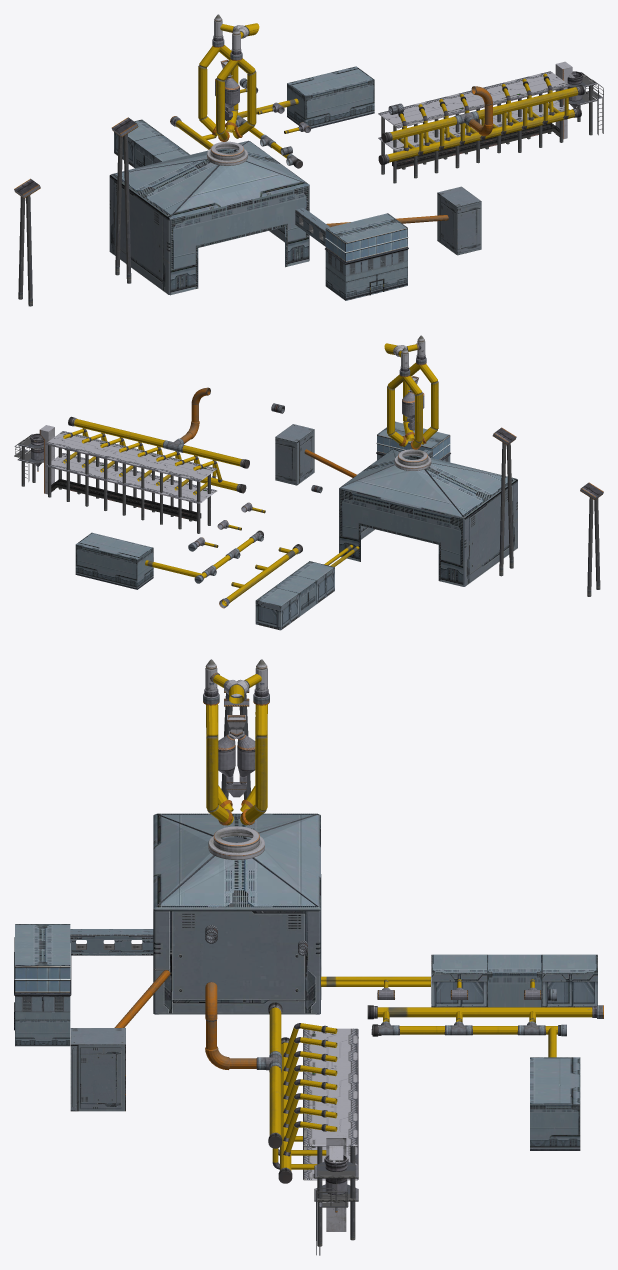
The model's file is 高炉大模型.obj.
The picture shows the model from 3 angles, top to bottom: view 1: azimuth 30°, elevation 25°; view 2: azimuth 150°, elevation 25°; view 3: azimuth 270°, elevation 25°; orthographic projection. The views are drawn at different scales.
Visible parts, largest first — view 1: ChamferBowx006, Cylinder061, Box341, Box006, ChamferBox001, Box340, Cylinder087, Box007, Object040, Cylinder026, ChamferBox032, Cylinder092 (+4 smaller); view 2: ChamferBowx006, Cylinder061, Box006, Box007, ChamferBox001, ChamferBox032, Cylinder087, Box340, Box341, Object040, Cylinder026, Cylinder092 (+2 smaller); view 3: ChamferBowx006, Cylinder061, Box007, Box341, ChamferBox001, Box006, Box340, ChamferBox030, Cylinder026, Cylinder092, Cylinder033, Line049 (+1 smaller).
Part boxes in pixels (x1,y1,x2,y2): ChamferBowx006: (109, 140, 309, 295); Cylinder061: (175, 45, 578, 162); Box341: (325, 213, 408, 300); Box006: (287, 66, 374, 128); ChamferBox001: (378, 71, 570, 128); Box340: (437, 186, 481, 255); Cylinder087: (18, 133, 131, 306); Box007: (114, 119, 189, 168); Object040: (392, 123, 559, 169); Cylinder026: (326, 86, 493, 226); ChamferBox032: (378, 100, 569, 151); Cylinder092: (207, 141, 247, 165); ChamferBowx006: (339, 449, 517, 586); Cylinder061: (63, 362, 438, 605); Box006: (75, 532, 153, 589); Box007: (255, 561, 334, 630); ChamferBox001: (45, 431, 216, 481); ChamferBox032: (45, 453, 216, 503); Cylinder087: (499, 442, 600, 596); Box340: (275, 424, 314, 485); Box341: (376, 421, 450, 462); Object040: (51, 479, 201, 521); Cylinder026: (180, 387, 356, 477); Cylinder092: (394, 449, 431, 470); ChamferBowx006: (153, 813, 321, 1014); Cylinder061: (206, 704, 592, 1170); Box007: (431, 954, 597, 1007); Box341: (14, 924, 71, 1046); ChamferBox001: (303, 1028, 358, 1146); Box006: (530, 1057, 580, 1150); Box340: (70, 1028, 125, 1111); ChamferBox030: (70, 929, 153, 955); Cylinder026: (114, 970, 256, 1069); Cylinder092: (208, 826, 264, 859); Cylinder033: (218, 734, 255, 776); Line049: (203, 659, 269, 705).
Size of the model in its own units: 177 by 64.07 by 106.
